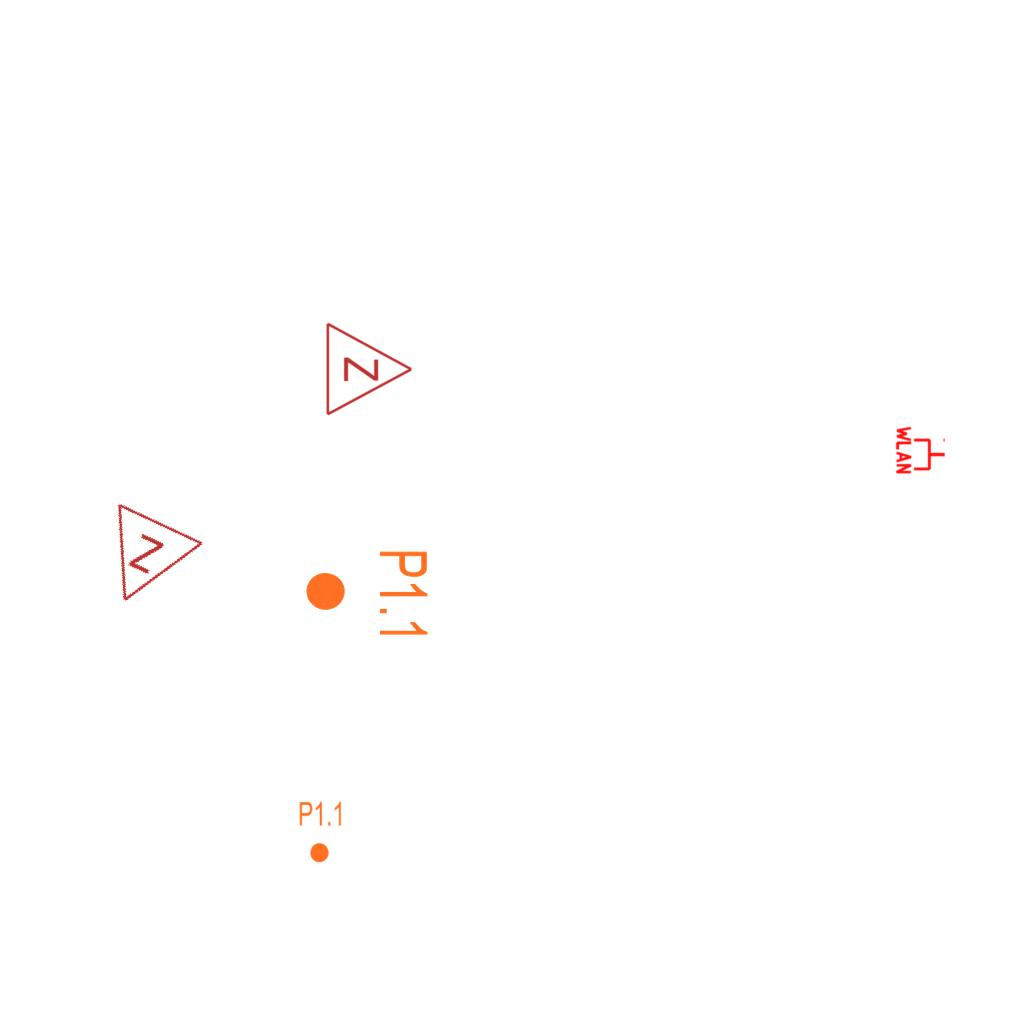Downlight_LED_Einbauleuchten_Flur: (303, 548, 431, 641), (298, 800, 344, 864)
WLAN: (895, 424, 947, 476)
Zimmersignalleuchte: (78, 495, 210, 629), (319, 319, 419, 417)
